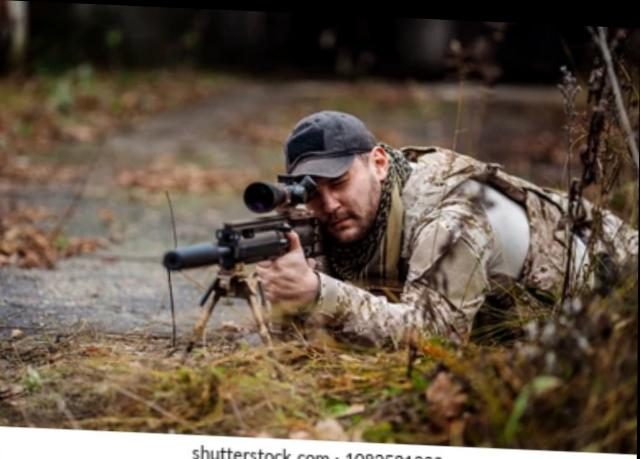other: (267, 106, 635, 332)
